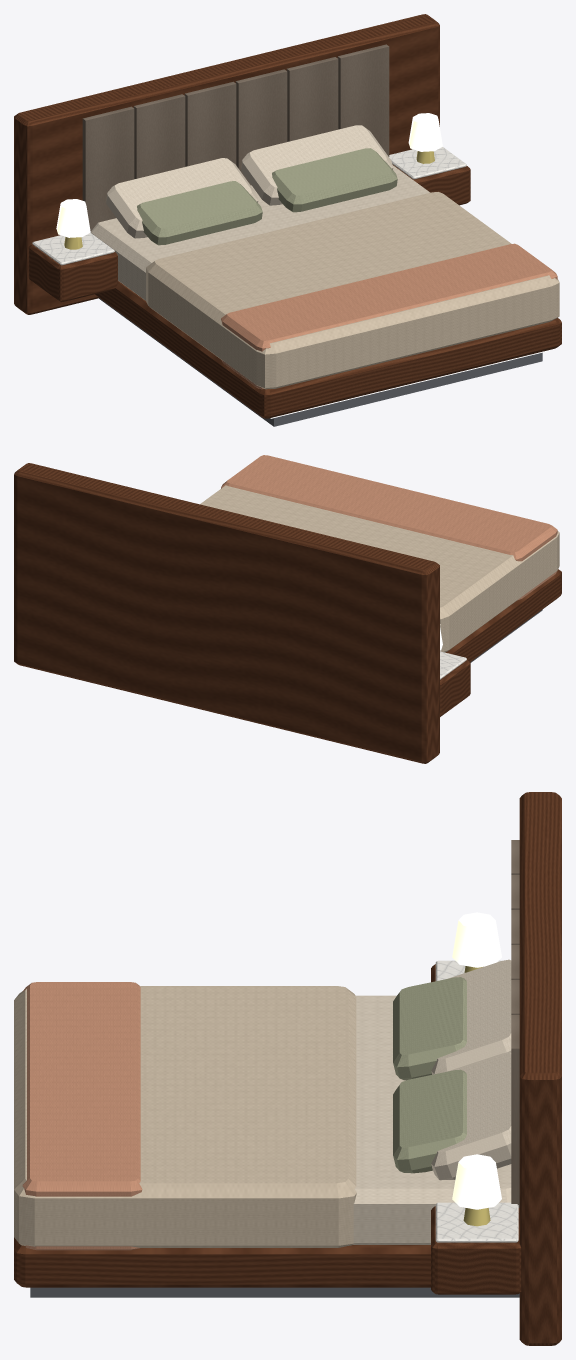
File: bed_master_king.glb
3 views of the same model, one above another, from view 1: azimuth 30°, elevation 25°; view 2: azimuth 150°, elevation 25°; view 3: azimuth 270°, elevation 25° (orthographic). The views are drawn at different scales.
Visible parts, largest first — view 1: bed_master_king_woodWalnut, bed_master_king_beddingDuvet, bed_master_king_fabricVelvet, bed_master_king_beddingWhite, bed_master_king_pillowTerra, bed_master_king_pillowSage, bed_master_king_metalBlack, bed_master_king_marbleCarrara, bed_master_king_emissiveWarm; view 2: bed_master_king_woodWalnut, bed_master_king_beddingDuvet, bed_master_king_pillowTerra, bed_master_king_marbleCarrara; view 3: bed_master_king_beddingDuvet, bed_master_king_woodWalnut, bed_master_king_pillowTerra, bed_master_king_beddingWhite, bed_master_king_pillowSage, bed_master_king_metalBlack, bed_master_king_emissiveWarm, bed_master_king_marbleCarrara, bed_master_king_fabricVelvet.
Part boxes in pixels (x1,y1,x2,y2): bed_master_king_woodWalnut: [14, 14, 561, 418]; bed_master_king_beddingDuvet: [146, 192, 559, 389]; bed_master_king_fabricVelvet: [82, 44, 389, 231]; bed_master_king_beddingWhite: [90, 125, 430, 300]; bed_master_king_pillowTerra: [221, 243, 557, 389]; bed_master_king_pillowSage: [137, 148, 397, 245]; bed_master_king_metalBlack: [98, 298, 542, 426]; bed_master_king_marbleCarrara: [32, 147, 466, 265]; bed_master_king_emissiveWarm: [56, 113, 549, 418]; bed_master_king_woodWalnut: [14, 463, 561, 763]; bed_master_king_beddingDuvet: [200, 485, 559, 652]; bed_master_king_pillowTerra: [221, 455, 557, 600]; bed_master_king_marbleCarrara: [440, 651, 466, 679]; bed_master_king_beddingDuvet: [14, 986, 356, 1247]; bed_master_king_woodWalnut: [14, 792, 561, 1345]; bed_master_king_pillowTerra: [22, 982, 142, 1250]; bed_master_king_beddingWhite: [353, 959, 511, 1244]; bed_master_king_pillowSage: [393, 977, 466, 1173]; bed_master_king_metalBlack: [30, 1287, 519, 1297]; bed_master_king_emissiveWarm: [452, 912, 501, 1209]; bed_master_king_marbleCarrara: [435, 960, 518, 1242]; bed_master_king_fabricVelvet: [511, 840, 519, 1207].
Size of what is drawn, in the model's own units: 2.65 by 1.18 by 2.15.
Materials: 10 (7 with a texture image).
